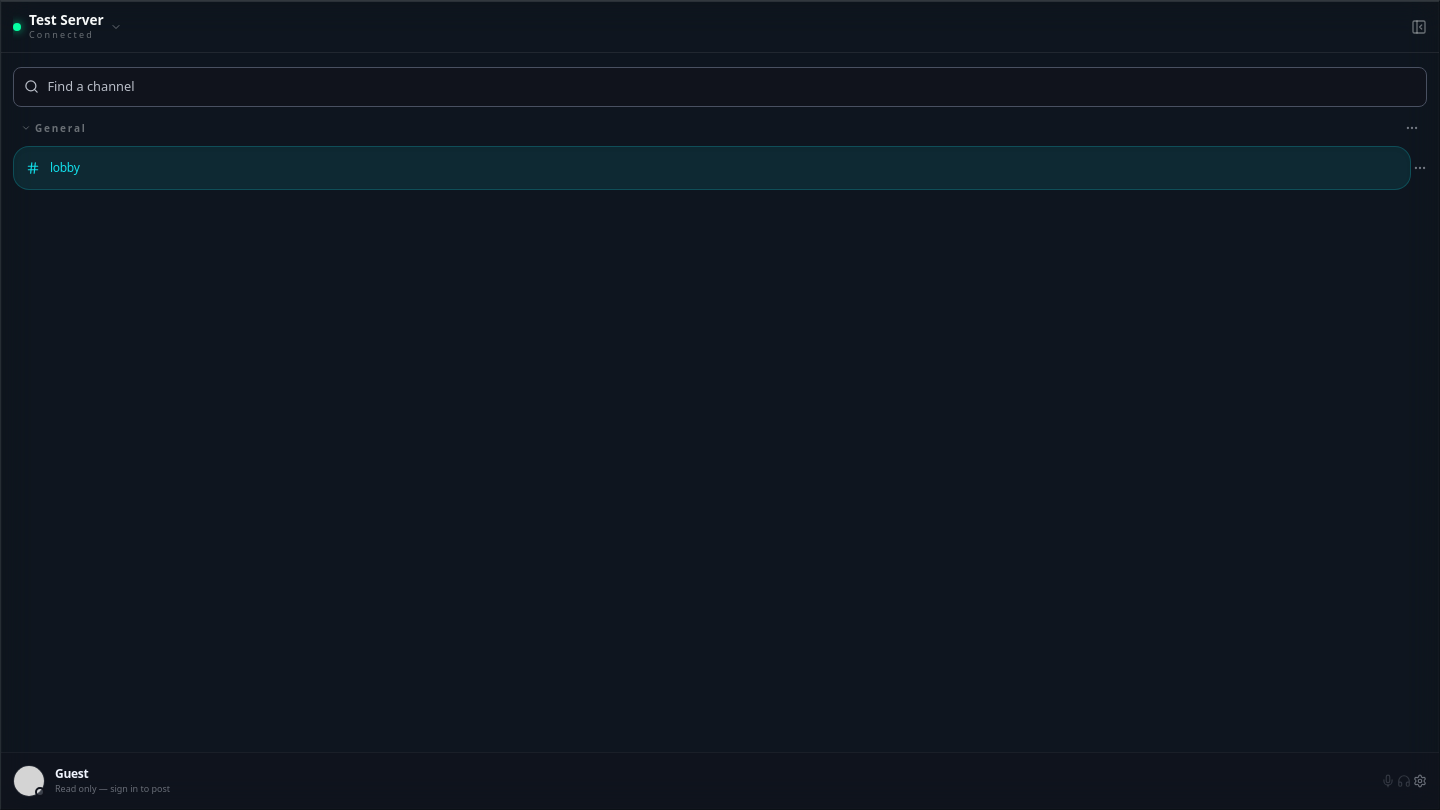
ChannelRail status picker › collapses and expands a category via its chevron toggle
The image size is (1440, 810).
expect the text "lobby" is shown: met, box 13,146 -> 1427,190
Click the button with aria-label "collapse general": [61, 128] box 21,121 -> 1405,136
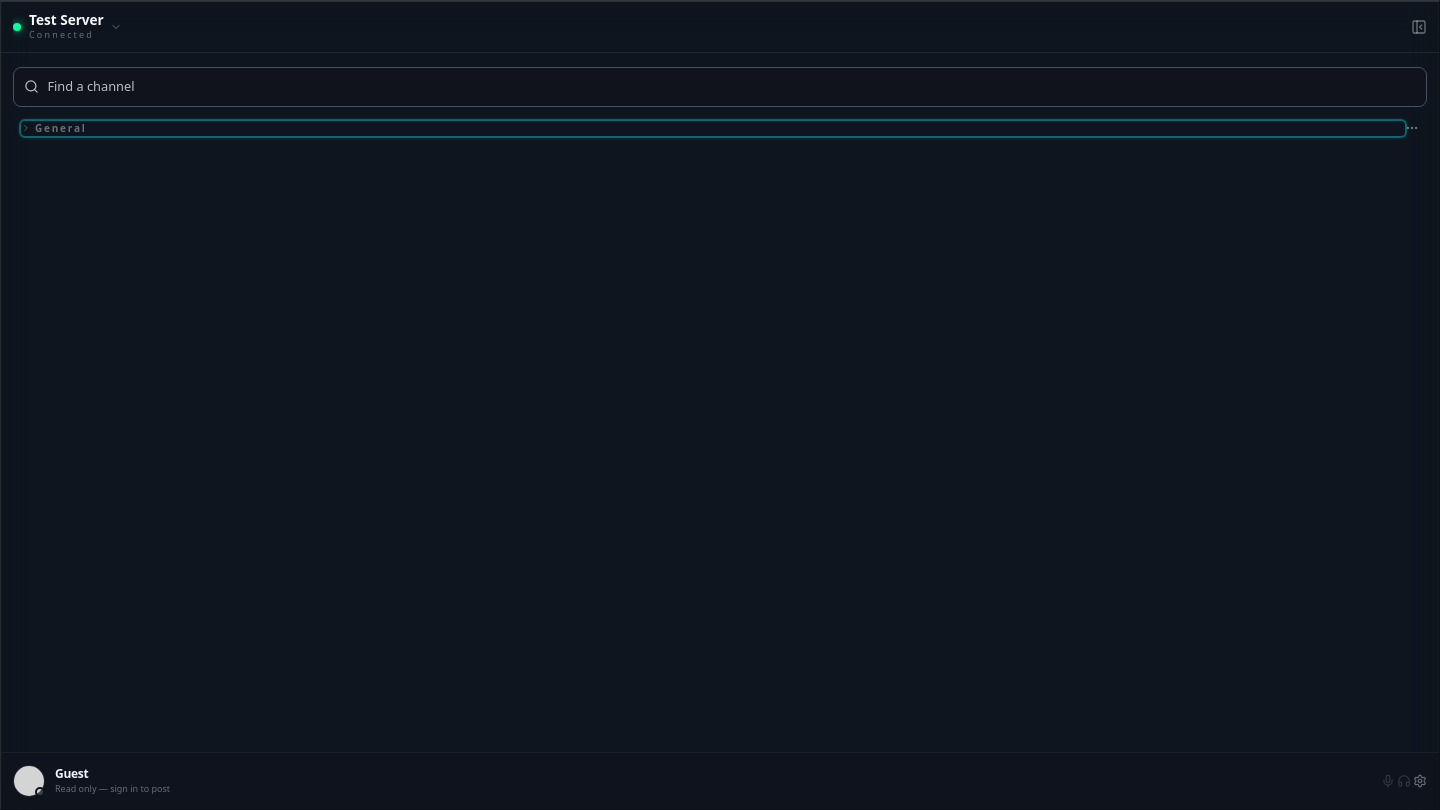
expect the button with aria-label "expand general" is collapsed: met
expect the button "lobby" is gone: met
Click the button with aria-label "expand general": [61, 128] box 21,121 -> 1405,136
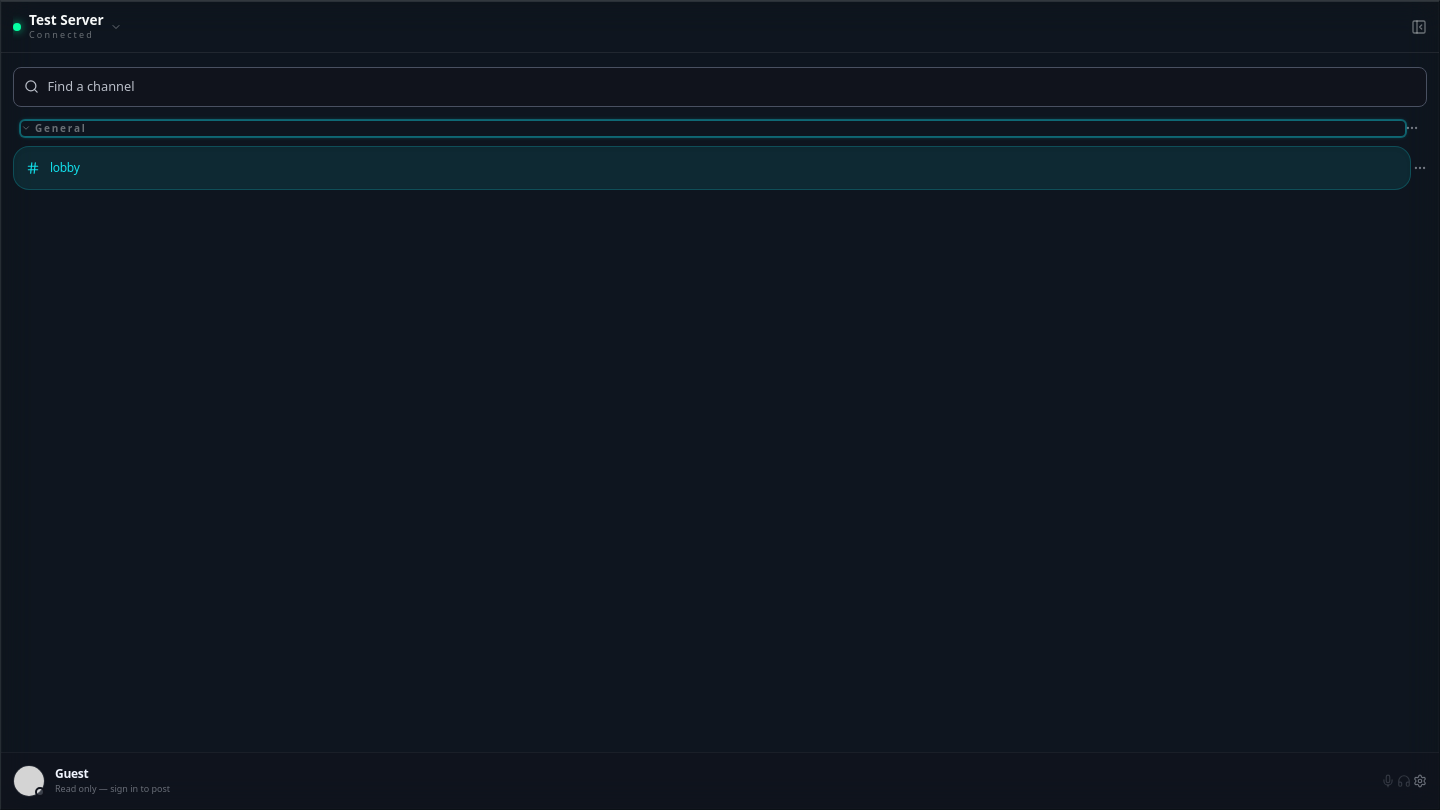
expect the text "lobby" is shown: met, box 50,159 -> 80,176
